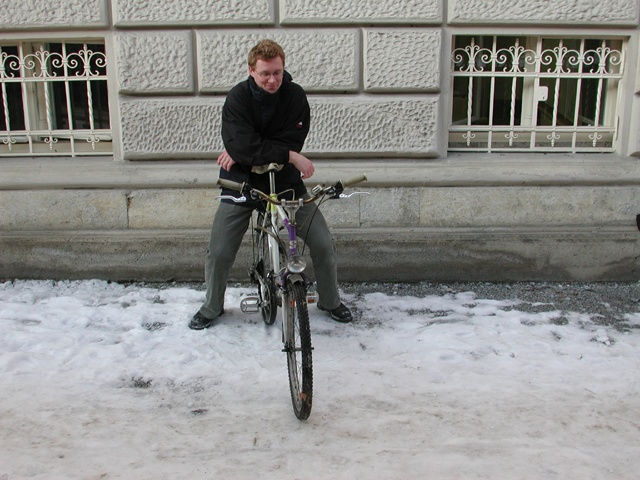person: (205, 36, 323, 318)
